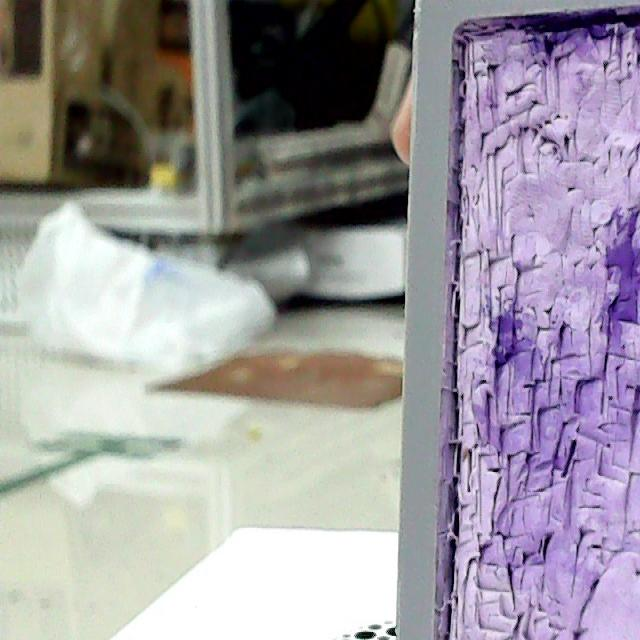block: (397, 0, 637, 628)
